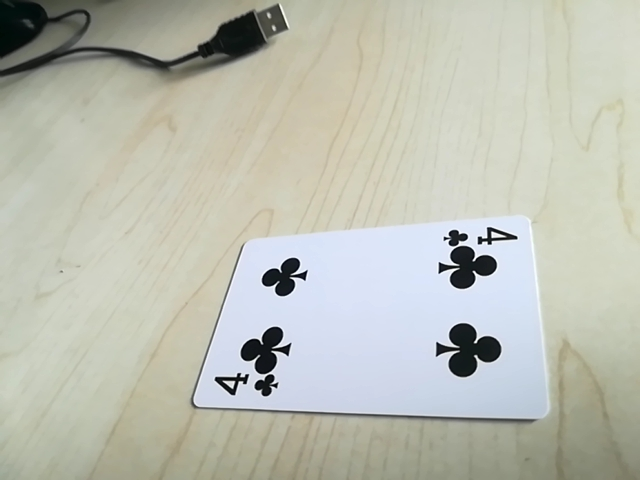mh 4: (439, 223, 519, 252), (207, 370, 283, 400)
